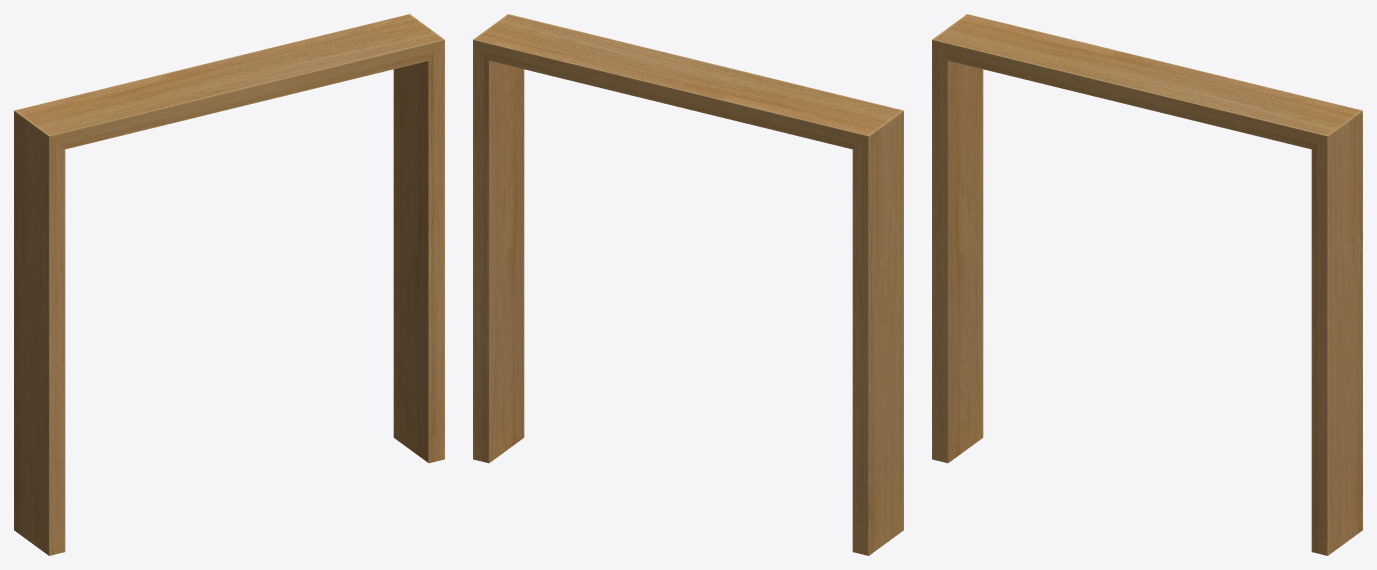
Rendered from door frame double.FBX.
3 renders of one model, left to right at view 1: azimuth 30°, elevation 25°; view 2: azimuth 150°, elevation 25°; view 3: azimuth 330°, elevation 25°, orthographic.
Visible parts, largest first — view 1: door frame double; view 2: door frame double; view 3: door frame double.
Boxes of the visible parts, x1,y1,x2,y2 form: door frame double: [14, 14, 444, 555]; door frame double: [473, 14, 903, 555]; door frame double: [932, 14, 1362, 555].
Size of the model in its own units: 83.64 by 12.86 by 84.74.
